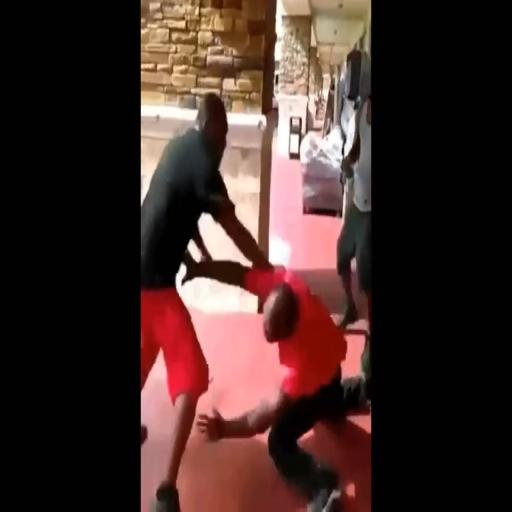violencia: (140, 74, 372, 512)
